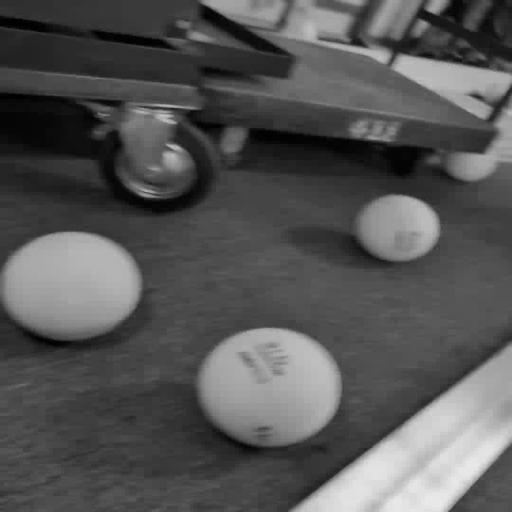fuel: (197, 328, 342, 447), (0, 232, 142, 341), (354, 195, 440, 262), (442, 148, 496, 182), (481, 83, 508, 105), (298, 18, 318, 40)
